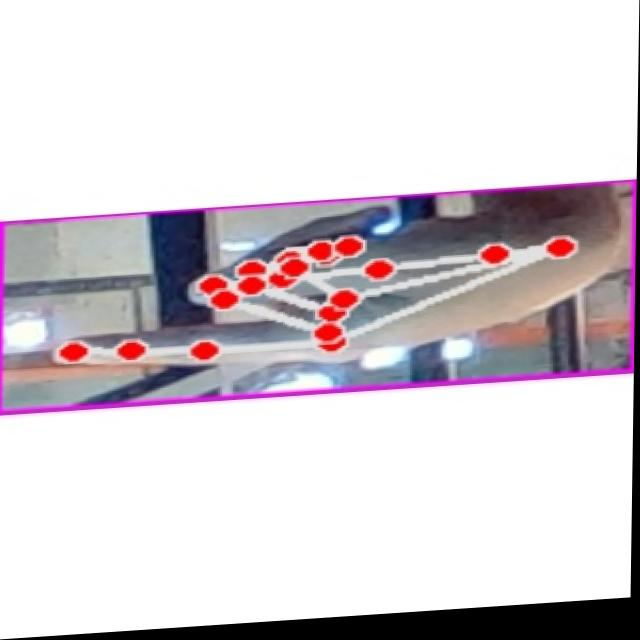G: (44, 203, 619, 388)
